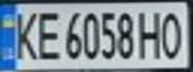0: (81, 8, 100, 61)
5: (100, 8, 121, 61)
6: (60, 8, 84, 61)
8: (115, 8, 139, 61)
E: (33, 7, 63, 62)
H: (136, 7, 166, 60)
K: (6, 7, 42, 62)
O: (157, 7, 187, 60)
